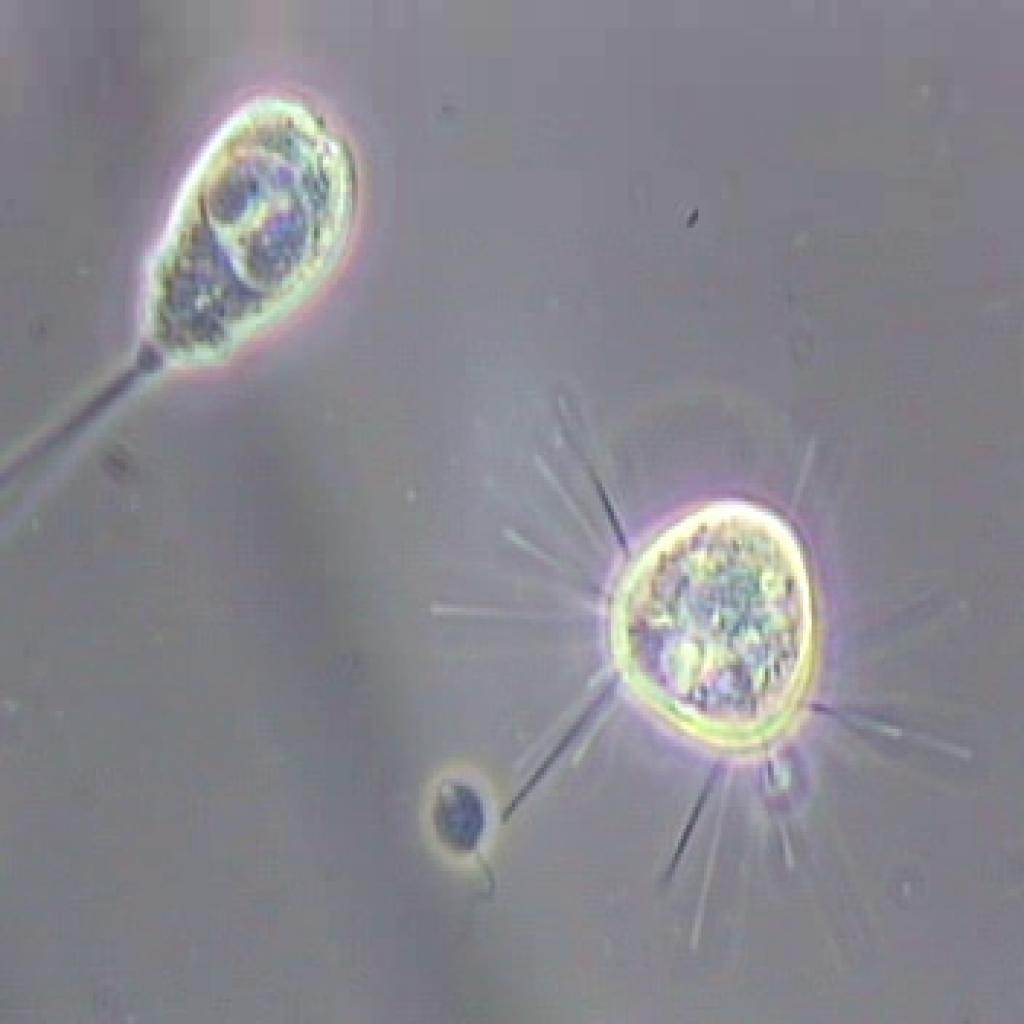Flagellates: (416, 766, 509, 969)
